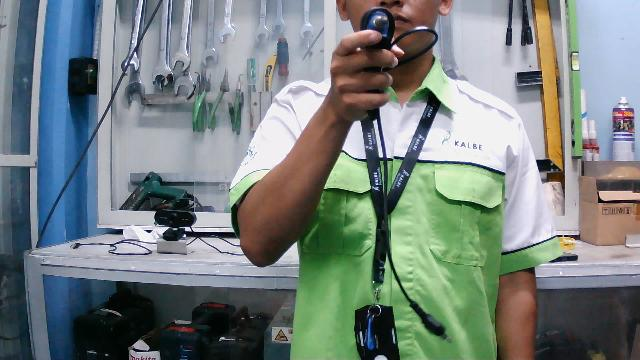solder_electrical: (353, 6, 441, 122)
